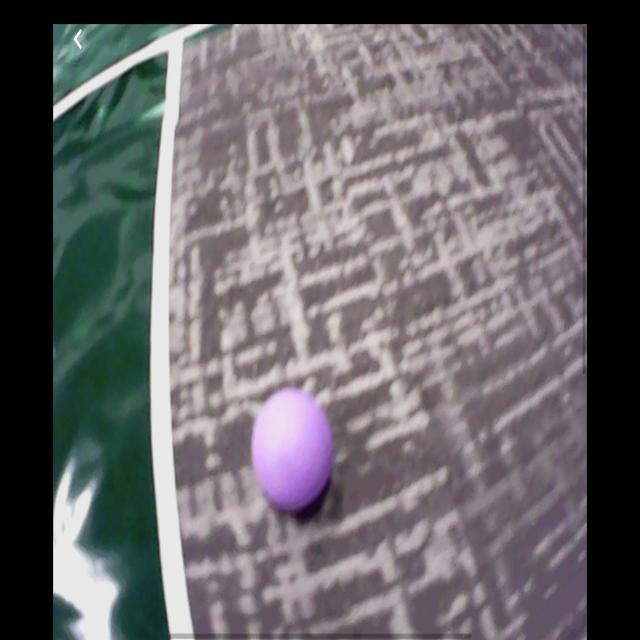ball: (254, 392, 329, 507)
